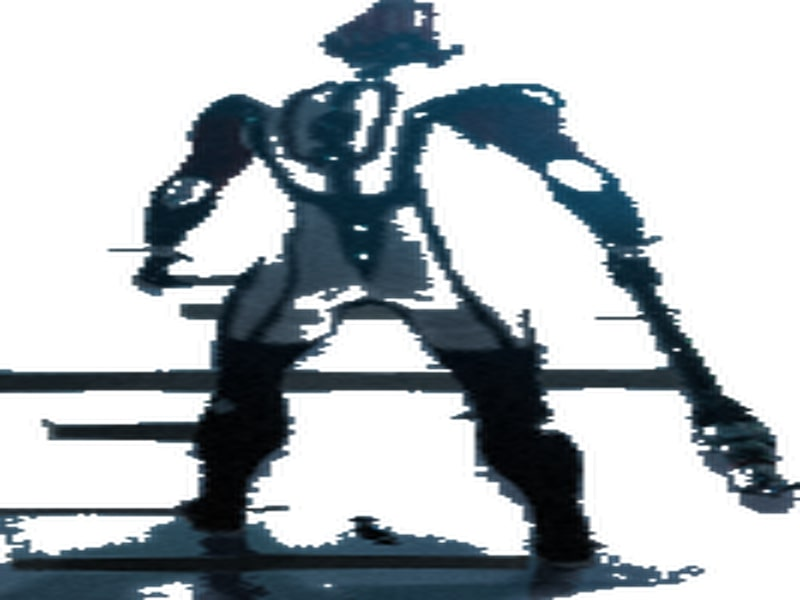corpus: (133, 3, 796, 579)
